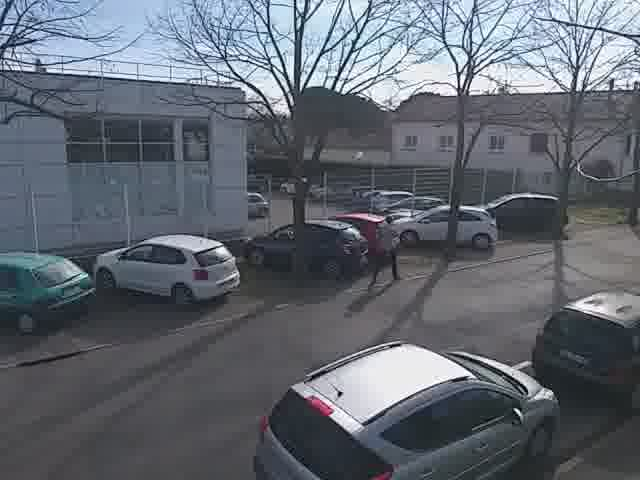persona: (368, 209, 403, 289)
